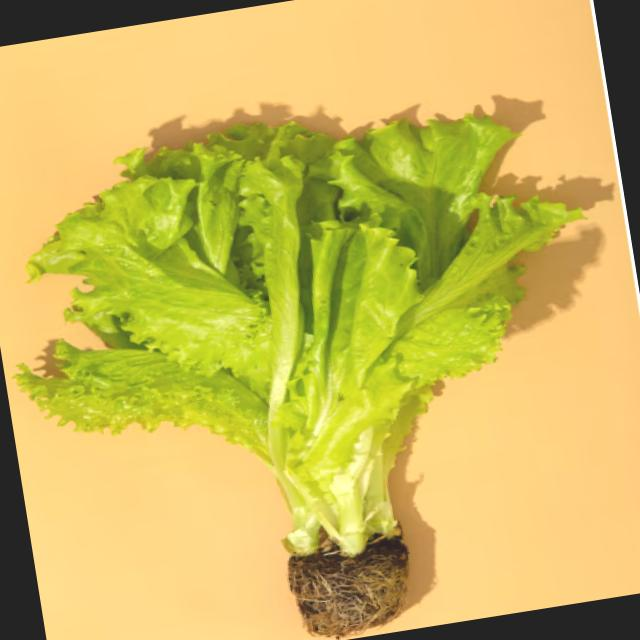inmadura: (17, 114, 583, 635)
